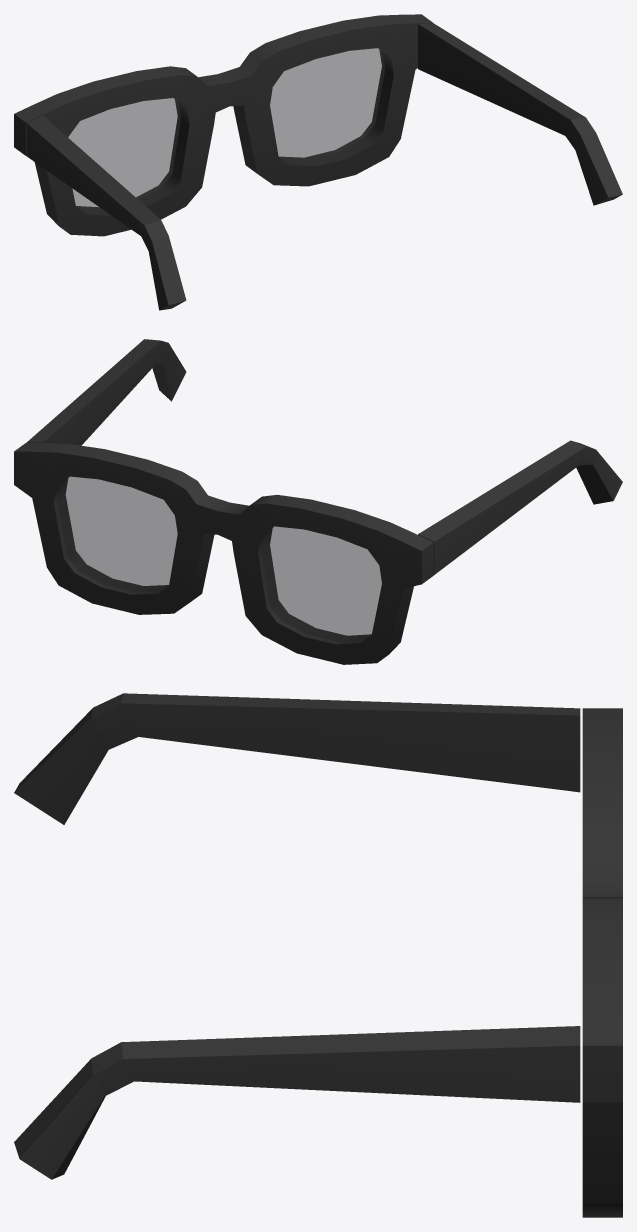
File: Eyewear_1.fbx
3 renders of one model, top to bottom at view 1: azimuth 30°, elevation 25°; view 2: azimuth 150°, elevation 25°; view 3: azimuth 270°, elevation 25°, orthographic. The views are drawn at different scales.
Visible parts, largest first — view 1: Eyewear_1; view 2: Eyewear_1; view 3: Eyewear_1.
Part boxes in pixels (x1=…): Eyewear_1: x1=14, y1=14, x2=622, y2=310; Eyewear_1: x1=14, y1=339, x2=622, y2=664; Eyewear_1: x1=14, y1=693, x2=622, y2=1217.
Bounding box in the file's own units: 71.62 × 21.97 × 49.01.
